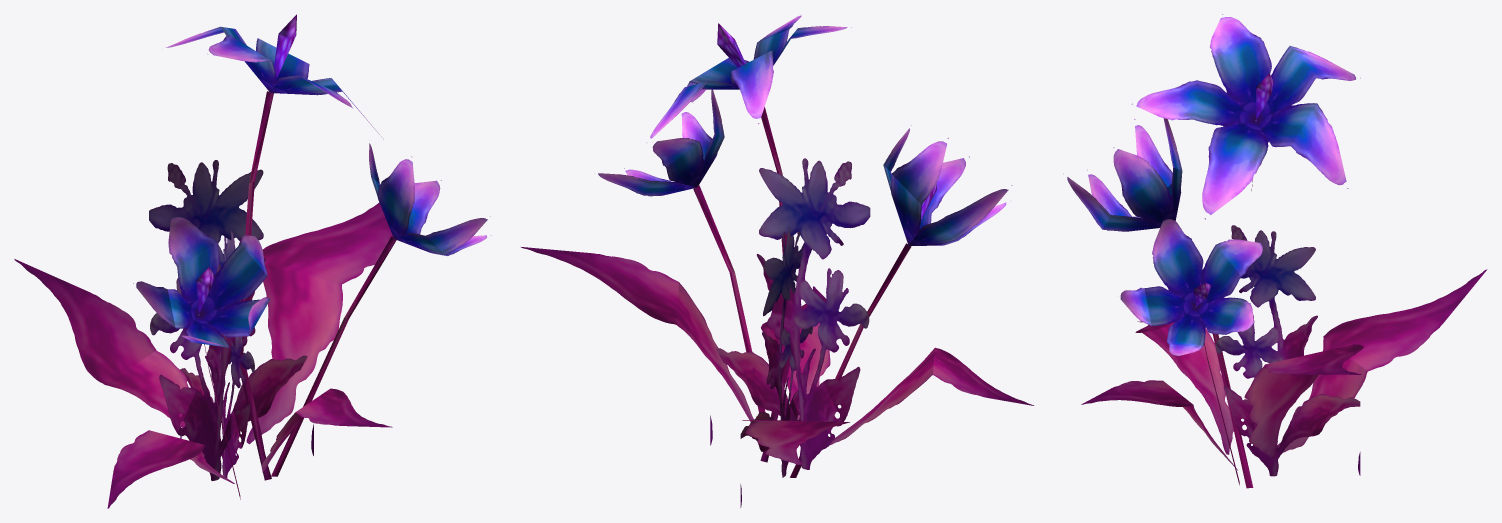
File: TwistedJungle_Flower02.FBX
3 renders of one model, left to right at view 1: azimuth 30°, elevation 25°; view 2: azimuth 150°, elevation 25°; view 3: azimuth 270°, elevation 25°, orthographic. The views are drawn at different scales.
Visible parts, largest first — view 1: TwistedJungle_Flower02; view 2: TwistedJungle_Flower02; view 3: TwistedJungle_Flower02.
Part boxes in pixels (x1,y1,x2,y2): TwistedJungle_Flower02: (14,14,491,508); TwistedJungle_Flower02: (521,15,1033,507); TwistedJungle_Flower02: (1067,14,1487,488).
Size of the model in its own units: 69.75 by 74.96 by 63.65.
